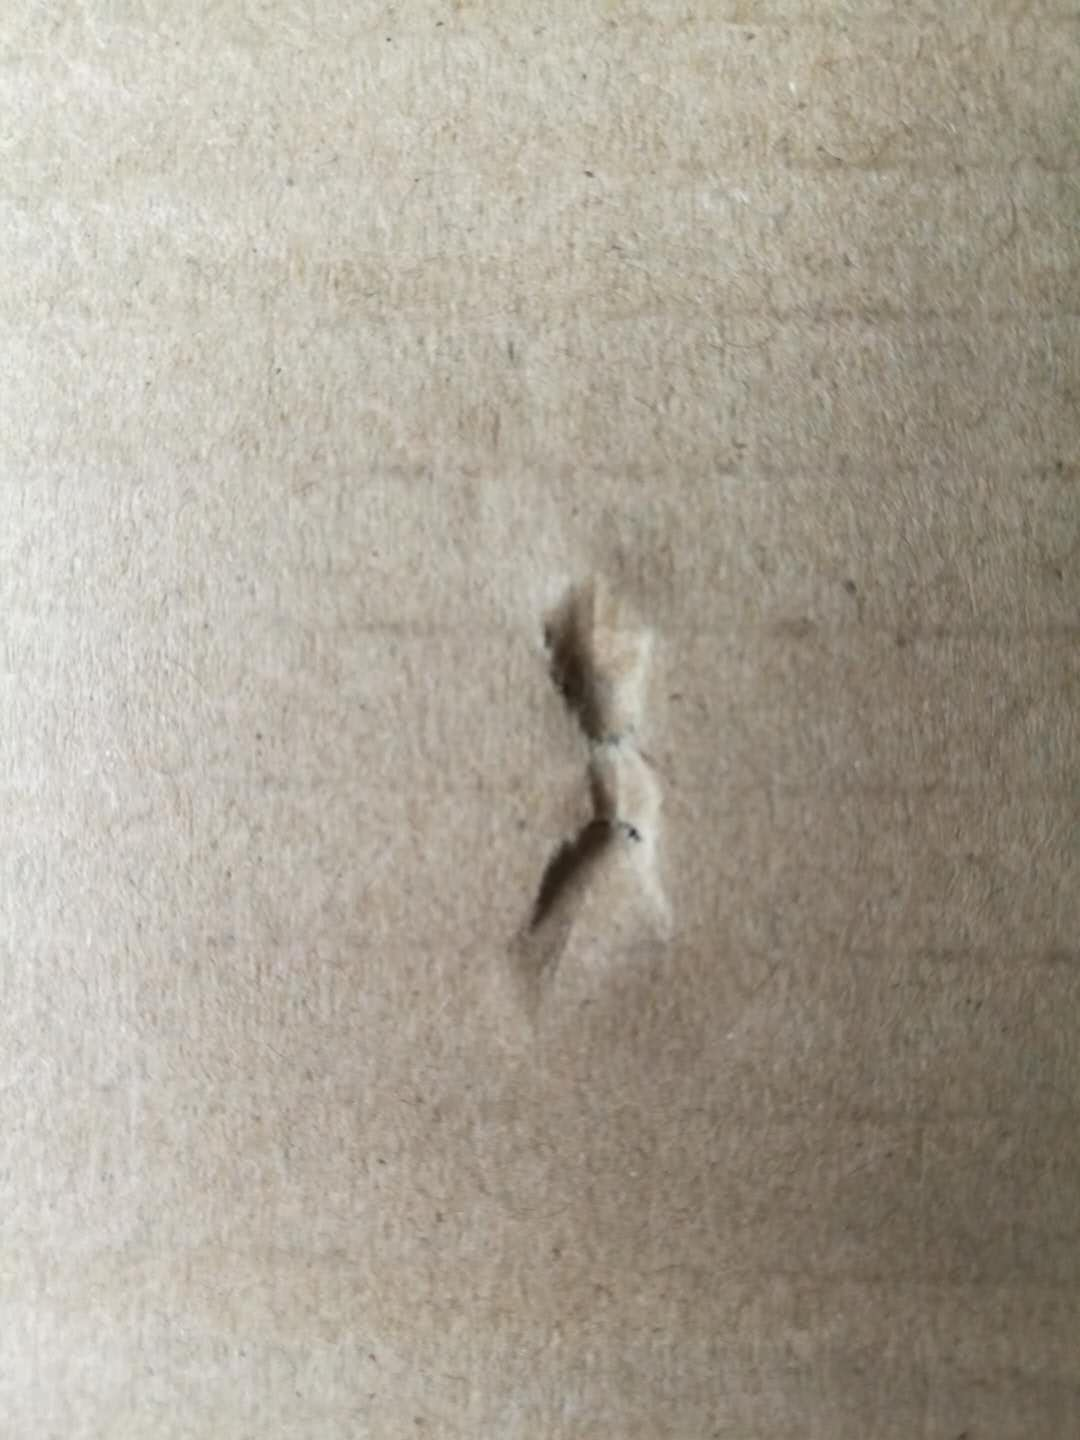defect: (431, 533, 759, 1045)
